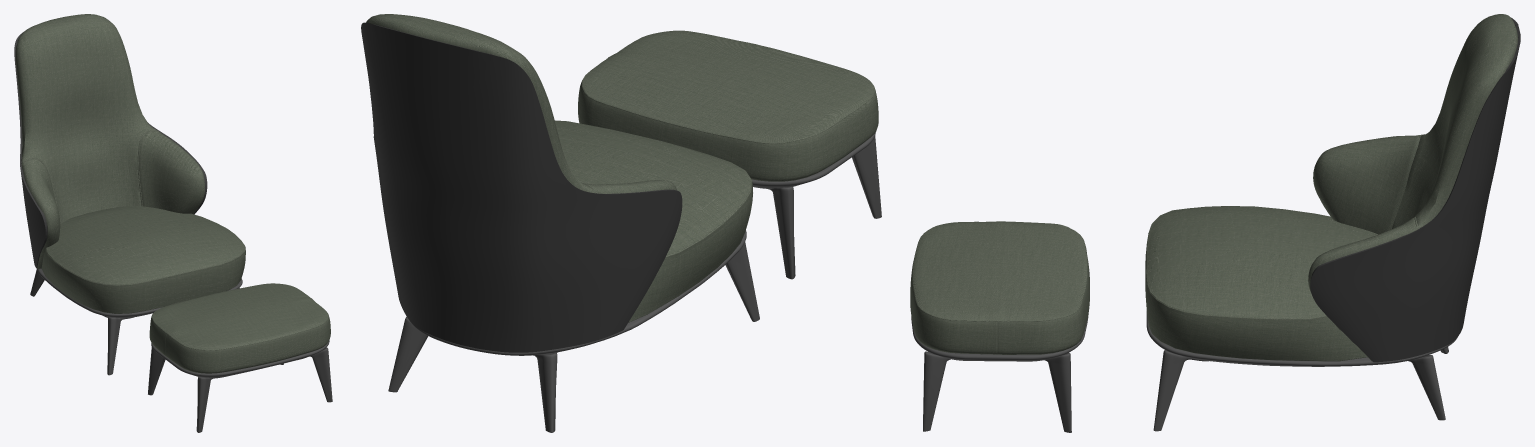
Rendered from stoolchair.glb.
3 renders of one model, left to right at view 1: azimuth 30°, elevation 25°; view 2: azimuth 150°, elevation 25°; view 3: azimuth 270°, elevation 25°, orthographic. The views are drawn at different scales.
Visible parts, largest first — view 1: Armchair; view 2: Armchair; view 3: Armchair.
Boxes of the visible parts, box(x1,y1,x2,y2) form: Armchair: box(14, 14, 332, 432); Armchair: box(361, 14, 881, 432); Armchair: box(910, 14, 1520, 432).
Size of the model in its own units: 0.7158 by 1.03 by 1.62.
3 materials, 1 textured.
